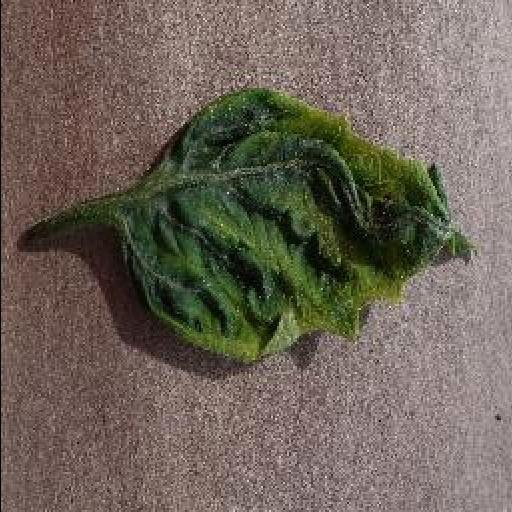disease_tomato: (118, 86, 470, 360)
